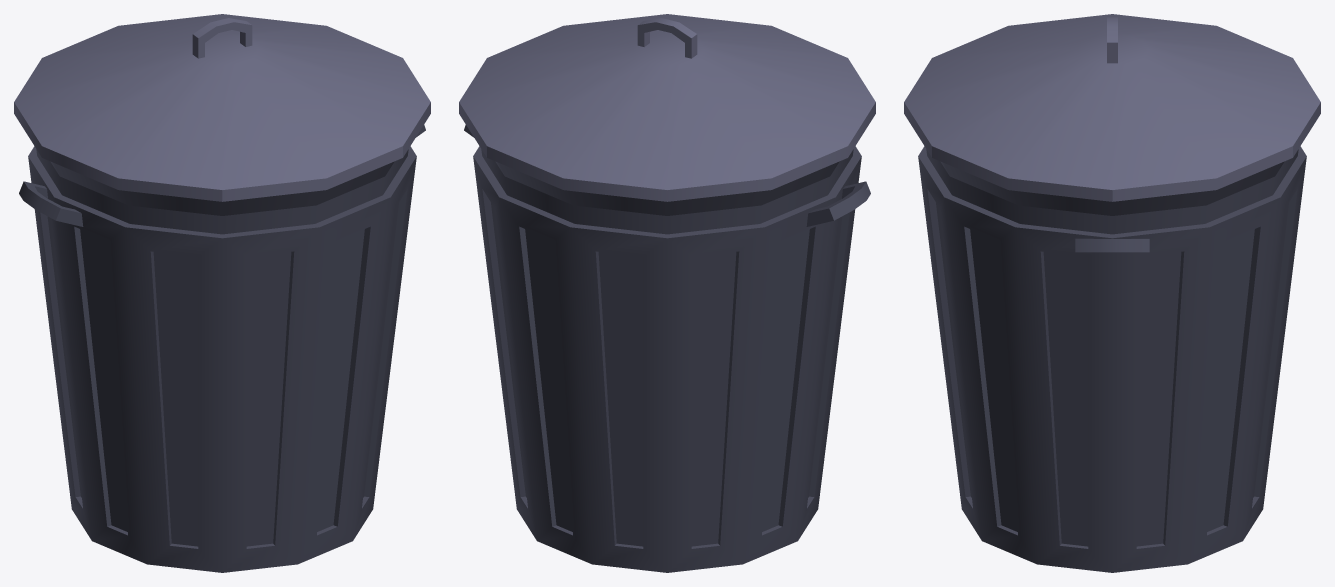
The model's file is garbage-bin.fbx.
3 renders of one model, left to right at view 1: azimuth 30°, elevation 25°; view 2: azimuth 150°, elevation 25°; view 3: azimuth 270°, elevation 25°, orthographic.
Visible parts, largest first — view 1: 6. garbage-bin; view 2: 6. garbage-bin; view 3: 6. garbage-bin.
Part boxes in pixels (x1,y1,x2,y2): 6. garbage-bin: (14,14,430,572); 6. garbage-bin: (459,14,875,572); 6. garbage-bin: (904,14,1320,572).
Size of the model in its own units: 79.76 by 96.25 by 74.66.
1 material, 1 textured.
